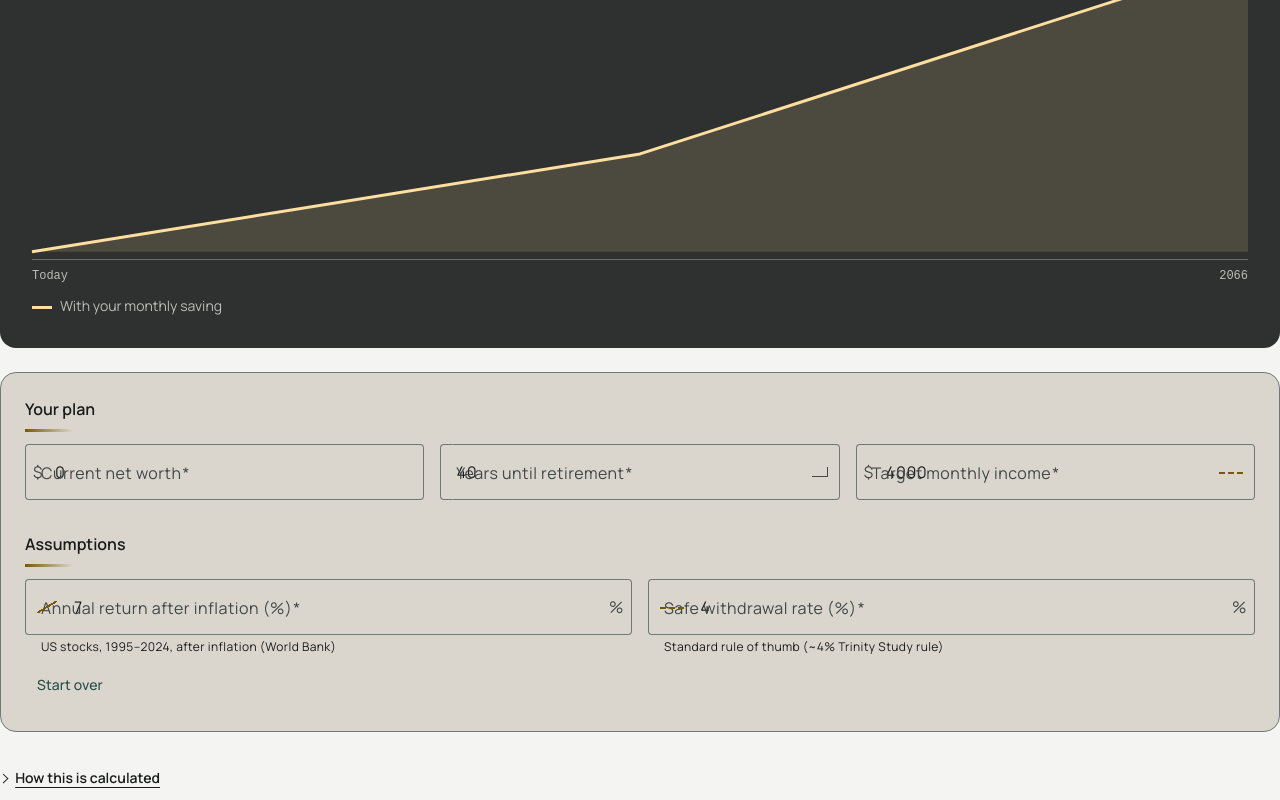
RetirementCalculatorComponent › trustworthy results › says which range a field accepts once it is left invalid
(page scrolled)
Step 1. Replace the text in the number field named "Safe withdrawal rate percentage" with "0" → (960, 607), box [700,595,1220,619]
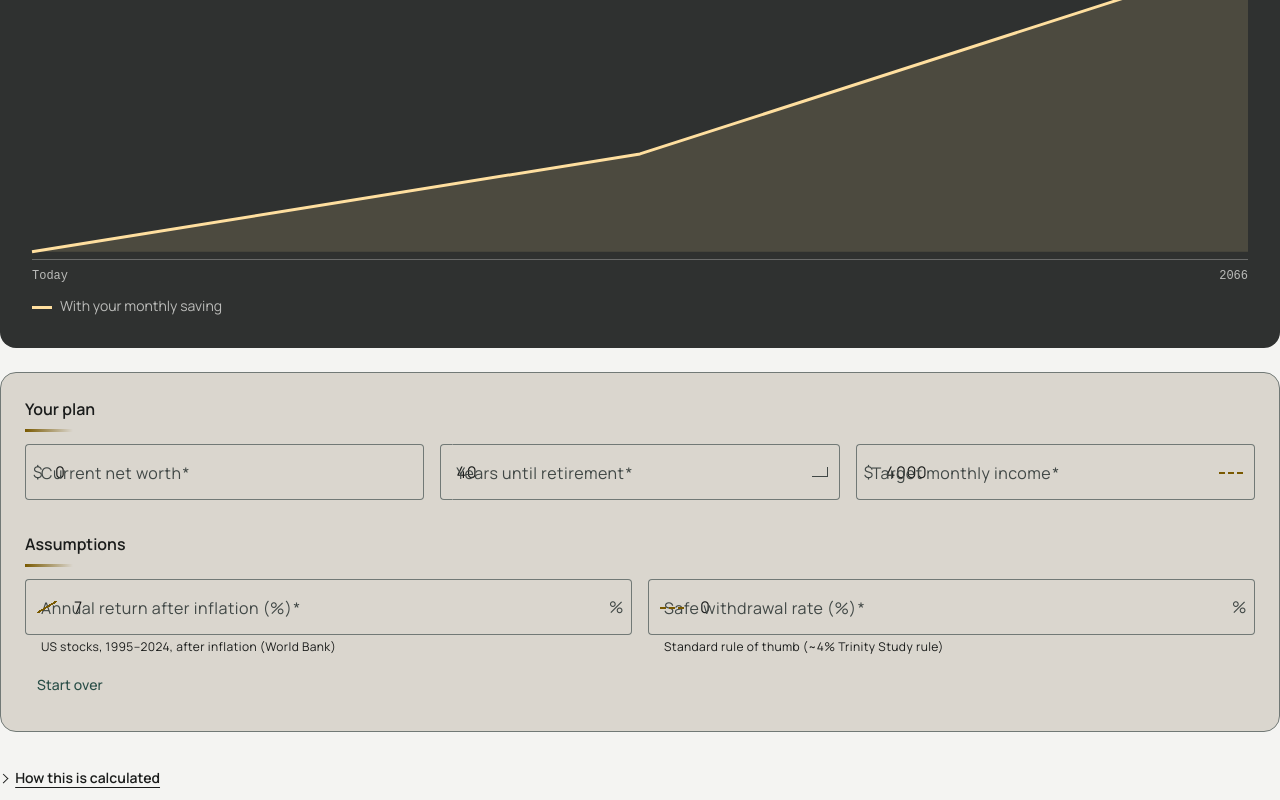
Step 2. Leave the number field named "Safe withdrawal rate percentage", box [700,595,1220,619]
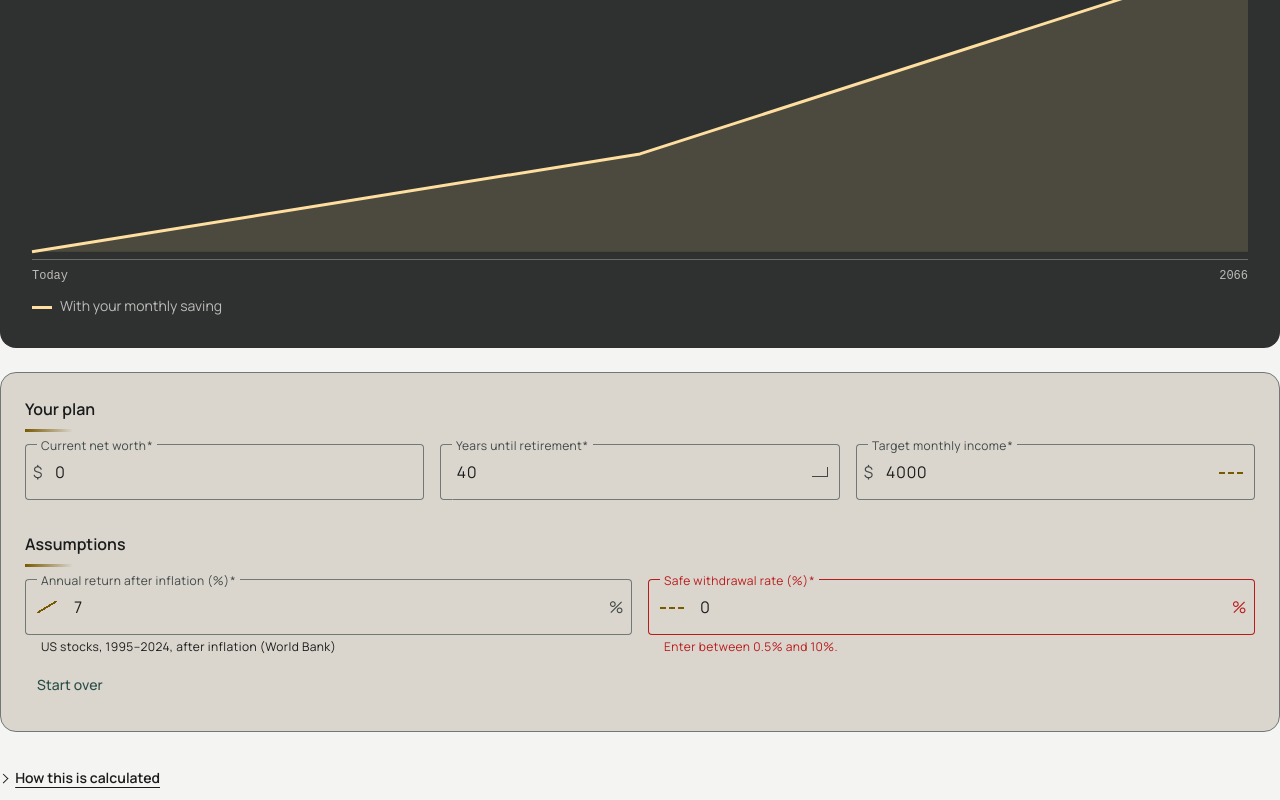
Check: the text "Enter between 0.5% and 10%." is shown, box [664,638,838,655]
